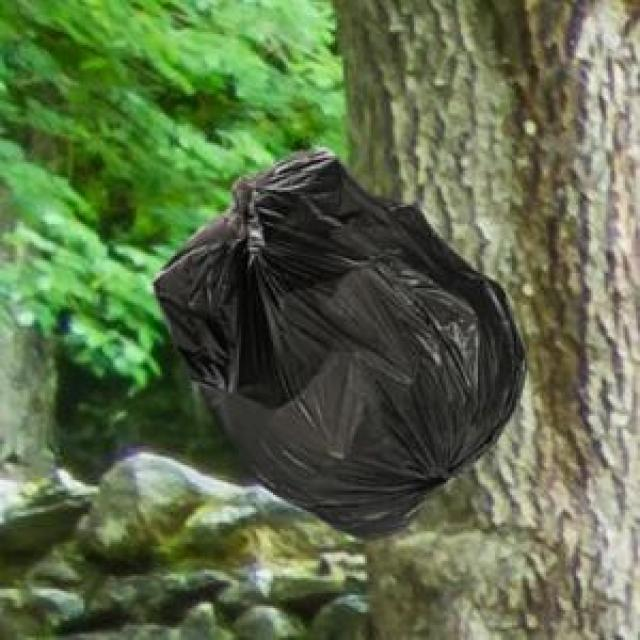waste: (155, 151, 524, 536)
